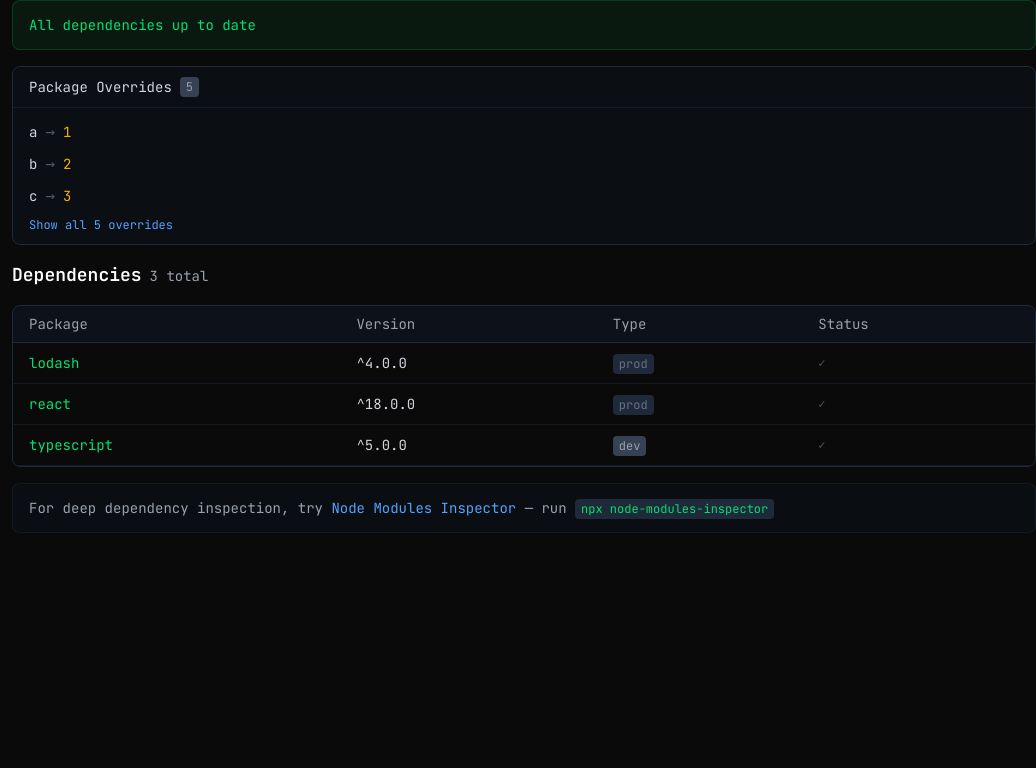
Test case: DependencyList › OverridesSection › collapses overrides when more than 3 and shows toggle
The image size is (1036, 768).
Check: the text "a" is shown, box x1=29 y1=122 x2=37 y2=142
Check: the text "b" is shown, box x1=29 y1=154 x2=37 y2=174
Click the button "Show all 5 overrides" at (101, 225), box x1=29 y1=217 x2=173 y2=233
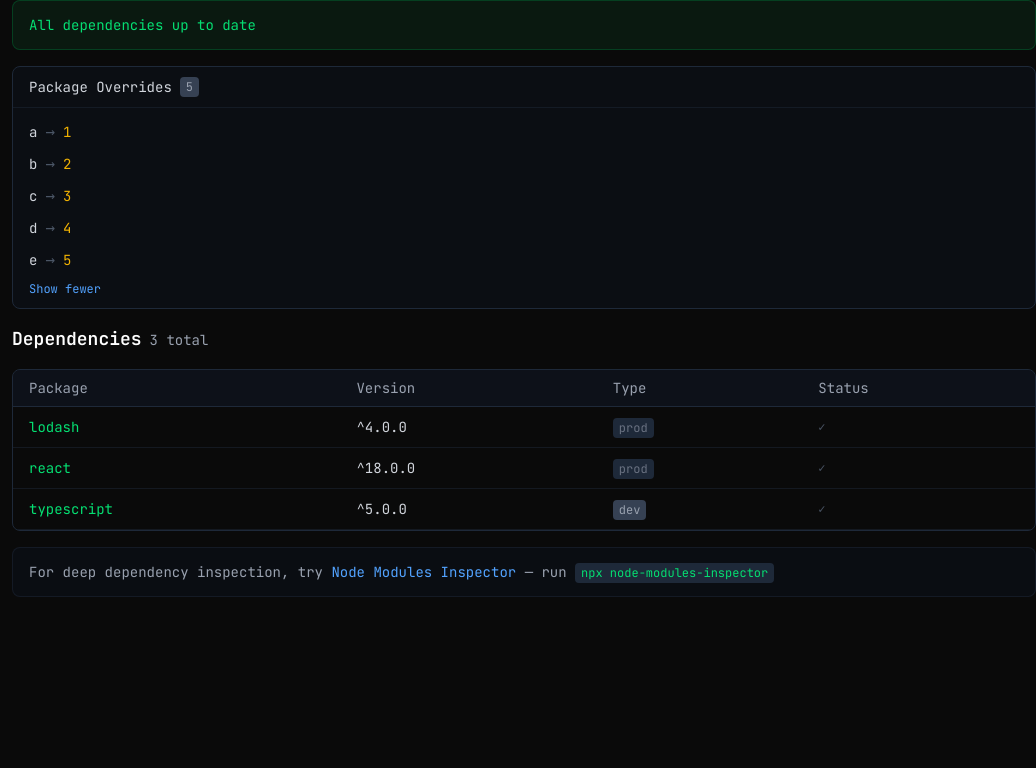
Check: the text "d" is shown, box x1=29 y1=218 x2=37 y2=238
Check: the text "e" is shown, box x1=29 y1=250 x2=37 y2=270
Check: the button "Show fewer" is shown, box x1=29 y1=281 x2=101 y2=297
